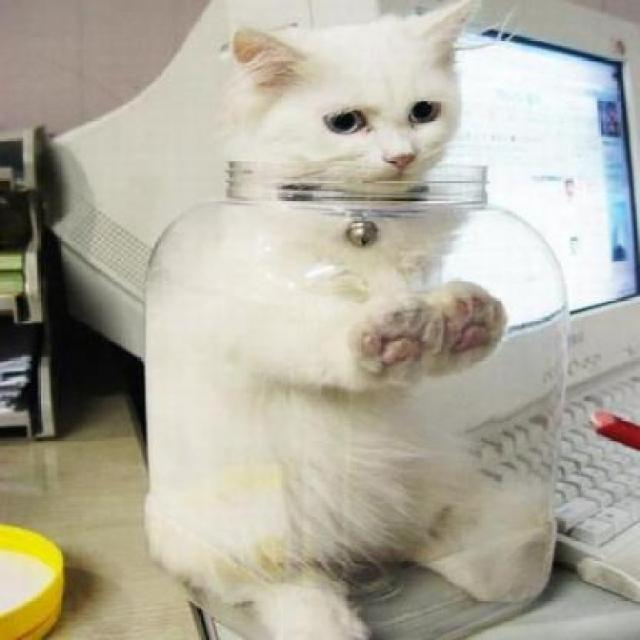cat: (218, 2, 522, 416)
